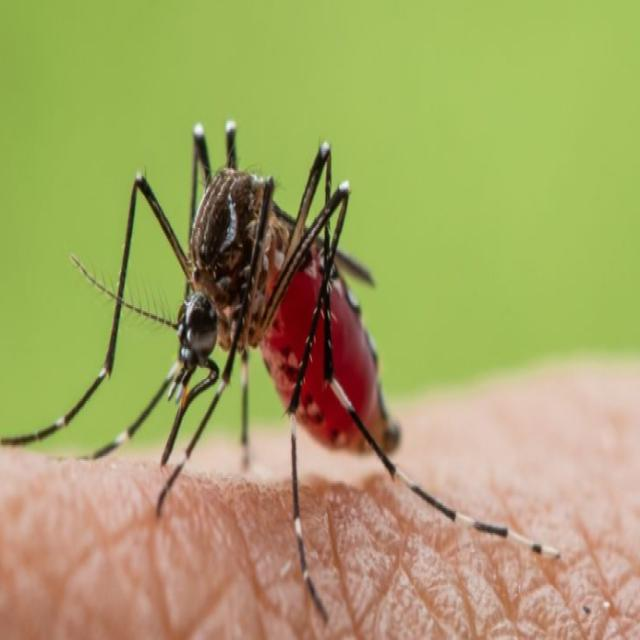Mosquito: (46, 100, 466, 639)
